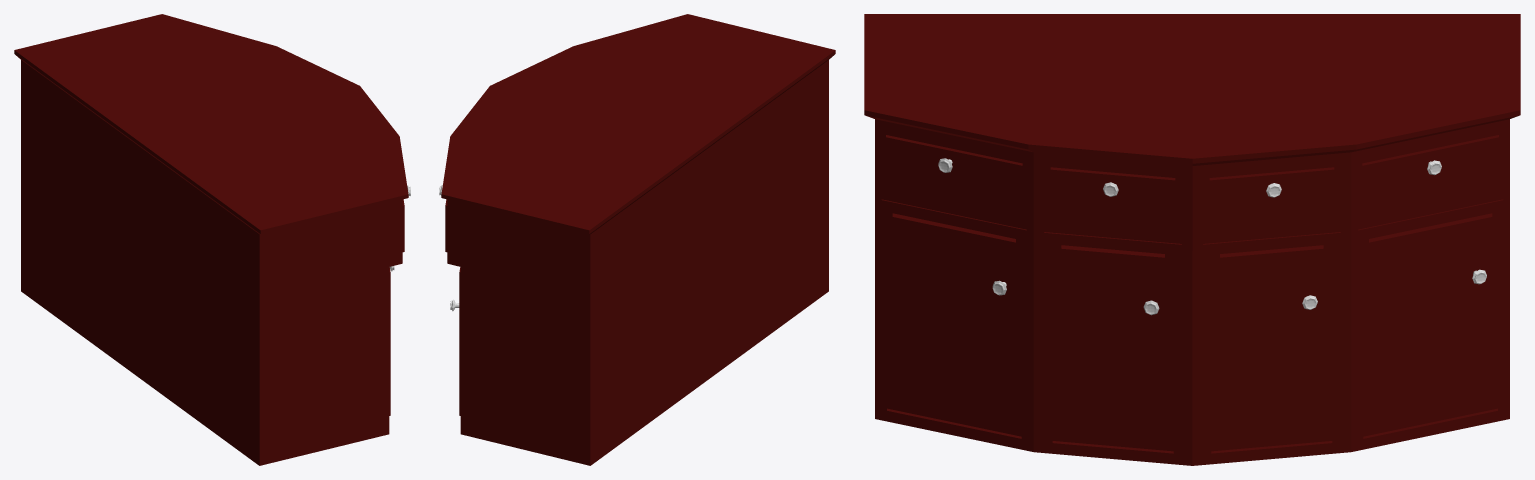
Rendered from Mobile_mat.fbx.
3 renders of one model, left to right at view 1: azimuth 30°, elevation 25°; view 2: azimuth 150°, elevation 25°; view 3: azimuth 270°, elevation 25°, orthographic. The views are drawn at different scales.
Parts seen in each view (by area): view 1: Mobile; view 2: Mobile; view 3: Mobile, Mobile_maniglie.
Part boxes in pixels (x1,y1,x2,y2): Mobile: (14,14,408,465); Mobile: (441,14,835,465); Mobile: (864,14,1520,465); Mobile_maniglie: (938,158,1486,315).
Size of the model in its own units: 109 by 112 by 209.
